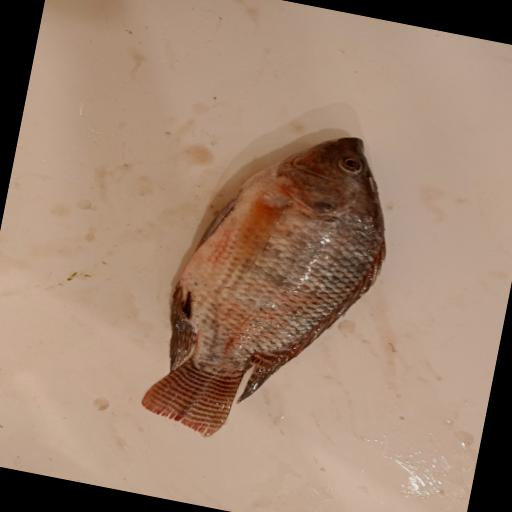Tilapia: (137, 107, 407, 465)
